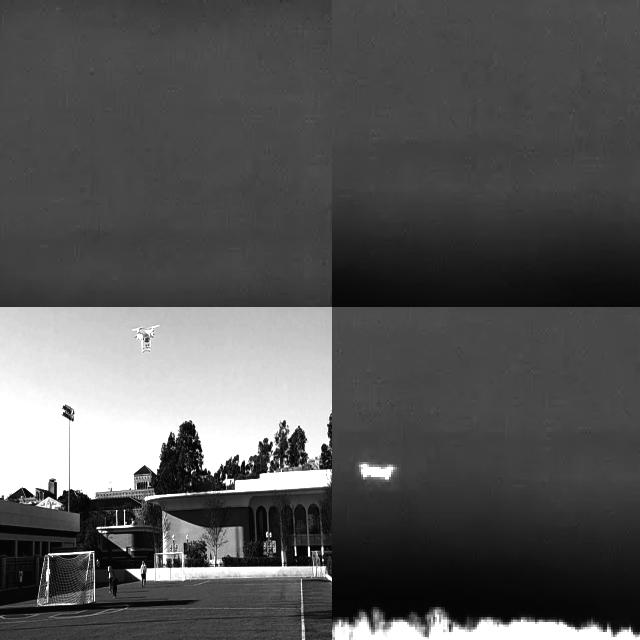1: (346, 456, 406, 490)
drone: (136, 321, 160, 350)
